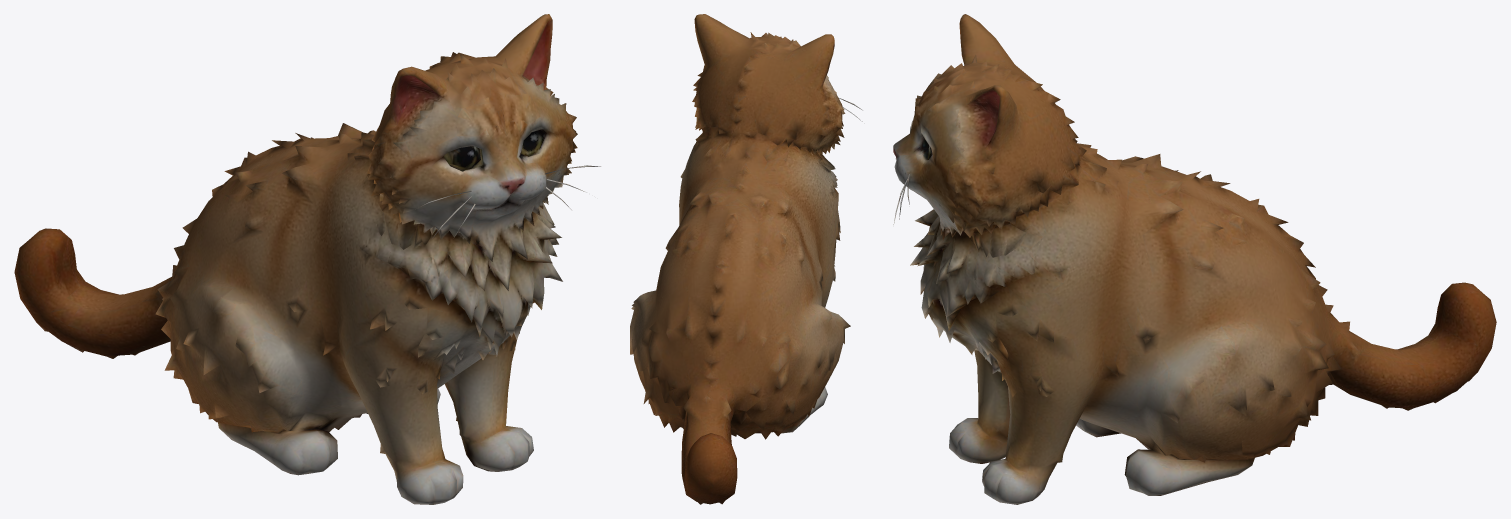
Rendered from 茶色の猫+3dモデル.glb.
3 renders of one model, left to right at view 1: azimuth 30°, elevation 25°; view 2: azimuth 150°, elevation 25°; view 3: azimuth 270°, elevation 25°, orthographic. The views are drawn at different scales.
Parts seen in each view (by area): view 1: tripo_node_8b9d560d-3104-4de7-a4a2-5fcdf7fc15eb; view 2: tripo_node_8b9d560d-3104-4de7-a4a2-5fcdf7fc15eb; view 3: tripo_node_8b9d560d-3104-4de7-a4a2-5fcdf7fc15eb.
Part boxes in pixels (box(x1,y1,x2,y2)): tripo_node_8b9d560d-3104-4de7-a4a2-5fcdf7fc15eb: box(14, 14, 600, 504); tripo_node_8b9d560d-3104-4de7-a4a2-5fcdf7fc15eb: box(630, 14, 862, 504); tripo_node_8b9d560d-3104-4de7-a4a2-5fcdf7fc15eb: box(893, 14, 1496, 504).
Size of the model in its own units: 0.5645 by 0.7832 by 0.998.
1 material, 1 textured.
